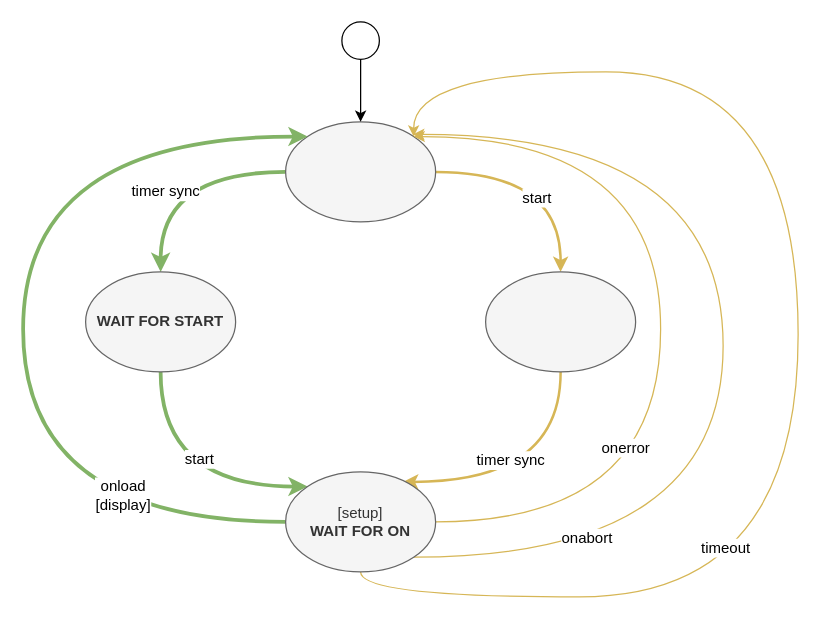
Some shapes in this 820 by 619 pixel diagram are drawn without their labels. The centre of each missing label's shape, as x and y in pixels:
[send "stop timer"] IDLE: point 360,171
WAIT FOR SYNC: point 560,321
